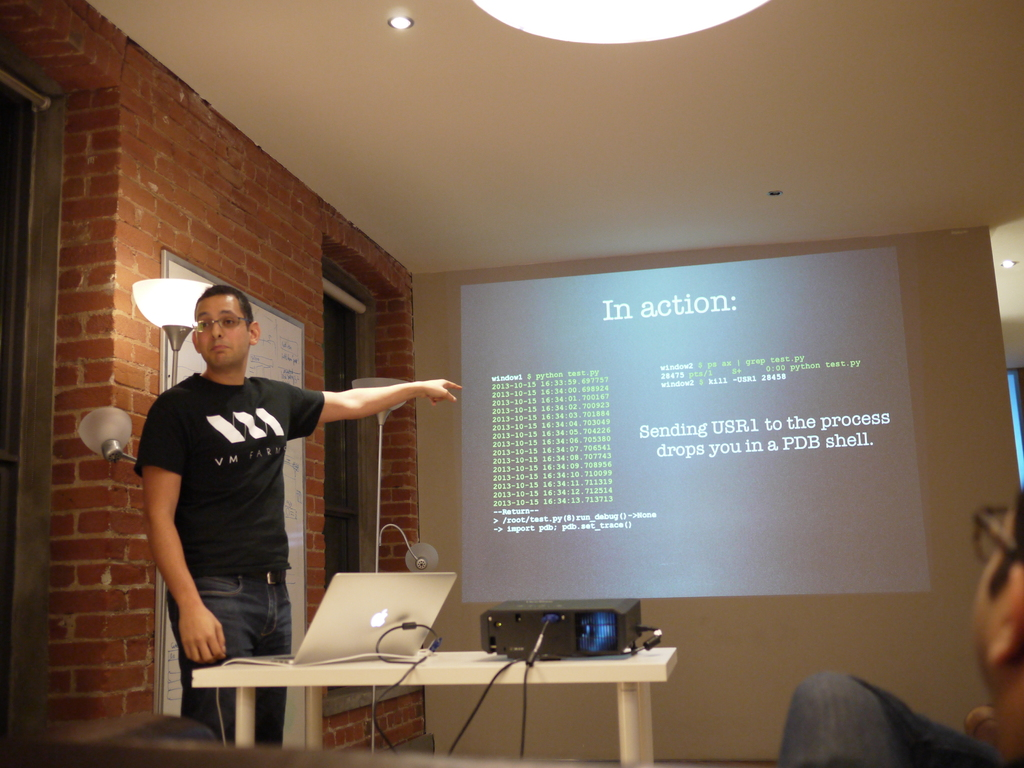Human_hand: (179, 605, 226, 664), (421, 376, 465, 410)
